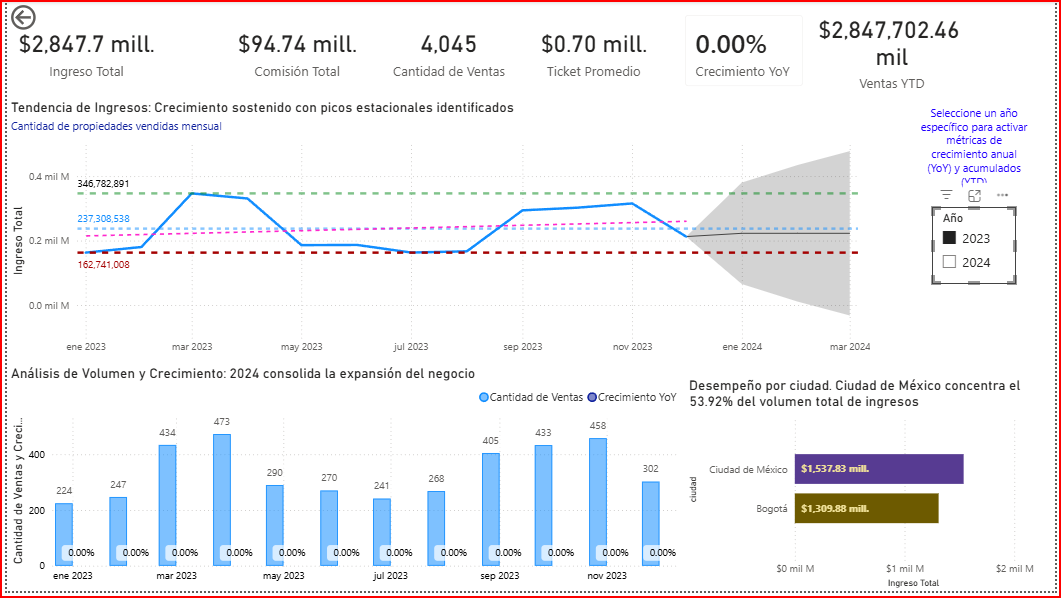

This screenshot's page, from the dashboard's own definition file:
{"tool":"powerbi","page":{"name":"General","canvas":[1280,720],"ordinal":0},"visuals":[{"type":"card","fields":{"Values":["_Medidas.Ingreso Total"]},"box":[0,0,194.1,122.5],"z":0},{"type":"card","fields":{"Values":["_Medidas.Cantidad de Ventas"]},"box":[441.8,0,195.4,122.5],"z":1000},{"type":"card","fields":{"Values":["_Medidas.Ticket Promedio"]},"box":[620.7,0,189.9,122.5],"z":2000},{"type":"card","fields":{"Values":["_Medidas.Comisión Total"]},"box":[265.6,0,176.2,122.5],"z":3000},{"type":"lineChart","title":"Tendencia de Ingresos: Crecimiento sostenido con picos estacionales identificados","fields":{"Y":["_Medidas.Ingreso Total"],"Category":["dim_fecha.Año-Mes (YYYY-MM)"]},"box":[0,119.7,1058.4,320.7],"z":4000},{"type":"barChart","title":"Desempeño por ciudad. Ciudad de México concentra el 53.92% del volumen total de ingresos","fields":{"Category":["hecho_ventas_propiedades.ciudad"],"Y":["_Medidas.Ingreso Total"]},"box":[827.2,458.3,452.8,261.5],"z":5000},{"type":"lineClusteredColumnComboChart","title":"Análisis de Volumen y Crecimiento: 2024 consolida la expansión del negocio","fields":{"Category":["dim_fecha.Año-Mes (YYYY-MM)"],"Y":["_Medidas.Cantidad de Ventas","_Medidas_Tiempo.Crecimiento YoY"]},"box":[0,444.6,827.2,275.3],"z":6000},{"type":"actionButton","box":[0,0,100,40],"z":7000},{"type":"cardVisual","fields":{"Data":["_Medidas_Tiempo.Crecimiento YoY"]},"box":[810.7,0,178.9,121.1],"z":8000},{"type":"slicer","fields":{"Values":["dim_fecha.Año"]},"box":[1128.6,251.9,103.2,93.6],"z":9000},{"type":"card","fields":{"Values":["_Medidas_Tiempo.Ventas YTD"]},"box":[978.6,0,202.3,118.4],"z":10000},{"type":"textbox","box":[1109.3,122.5,141.8,114.2],"z":13000}]}

Visuals, with their boxes in screenshot pixels (x1, y1, x2, y2), scaled from the page's 1280x720 canvas onto the 1061x598 screenshot:
card - _Medidas.Ingreso Total: 0/0/161/102
card - _Medidas.Cantidad de Ventas: 366/0/528/102
card - _Medidas.Ticket Promedio: 515/0/672/102
card - _Medidas.Comisión Total: 220/0/366/102
"Tendencia de Ingresos: Crecimiento sostenido con picos estacionales identificados" lineChart: 0/99/877/366
"Desempeño por ciudad. Ciudad de México concentra el 53.92% del volumen total de ingresos" barChart: 686/381/1060/597
"Análisis de Volumen y Crecimiento: 2024 consolida la expansión del negocio" lineClusteredColumnComboChart: 0/369/686/597
actionButton: 0/0/83/33
cardVisual - _Medidas_Tiempo.Crecimiento YoY: 672/0/820/101
slicer - dim_fecha.Año: 936/209/1021/287
card - _Medidas_Tiempo.Ventas YTD: 811/0/979/98
textbox: 920/102/1037/197
